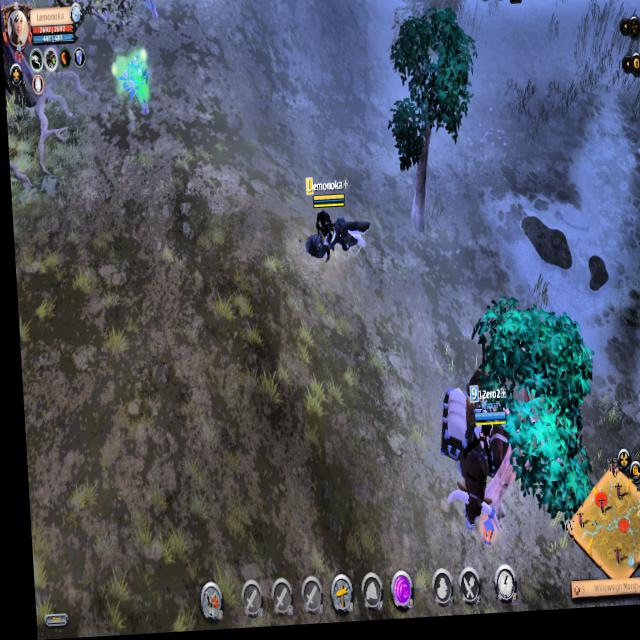fiber tier 4: (115, 54, 155, 118)
wood tier 3: (382, 7, 484, 173)
